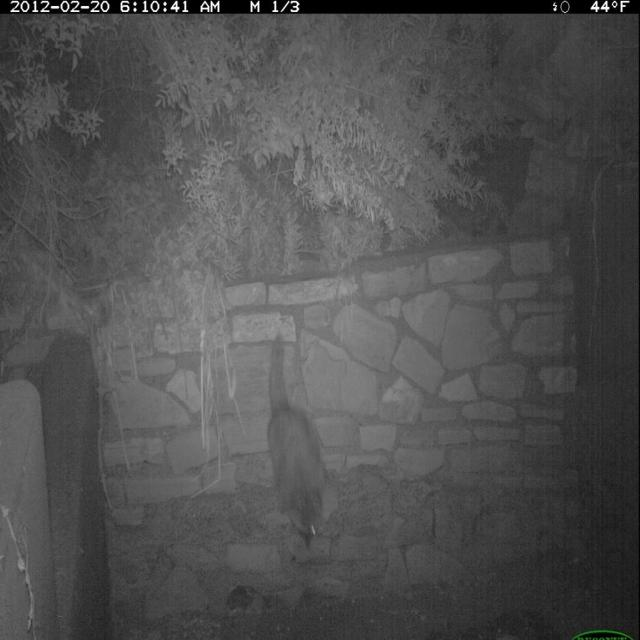raccoon: (265, 324, 336, 556)
